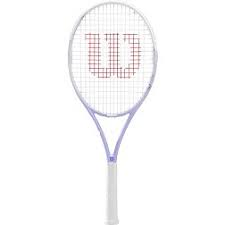tennis racket: (66, 1, 160, 225)
